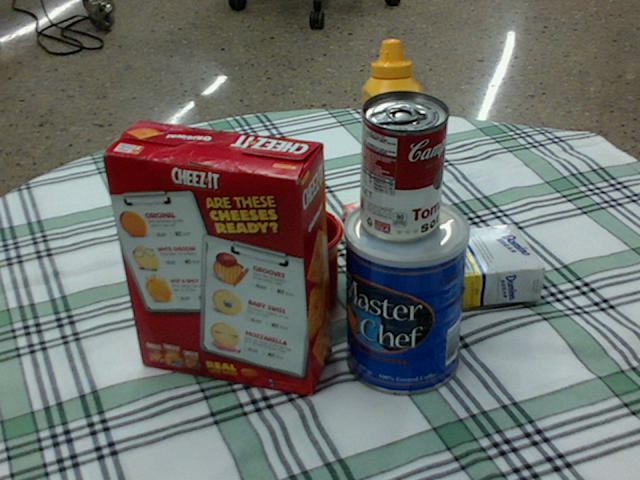cracker_box: (98, 122, 331, 393)
gelatin_box: (341, 187, 442, 256)
master_chef_can: (344, 194, 469, 394)
mug: (243, 206, 341, 322)
mustard_bottle: (361, 40, 423, 241)
potted_meat_can: (160, 223, 250, 313)
sugar_box: (349, 221, 545, 319)
tomato_soup_can: (358, 90, 446, 241)
tuna_fish_can: (163, 190, 253, 264)
